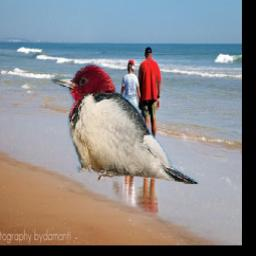Woodpecker: (50, 63, 199, 184)
